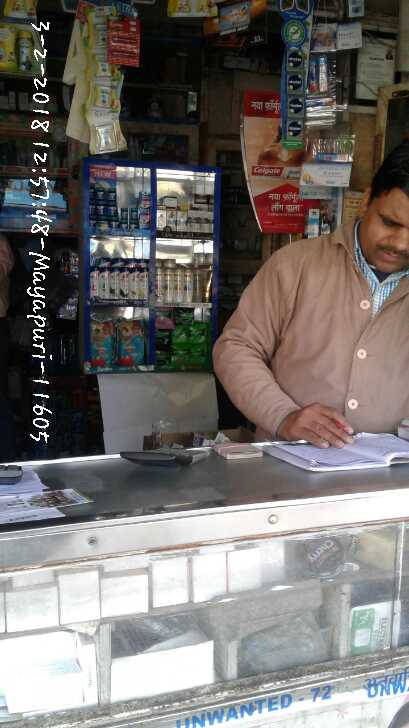vicks: (84, 182, 152, 230)
